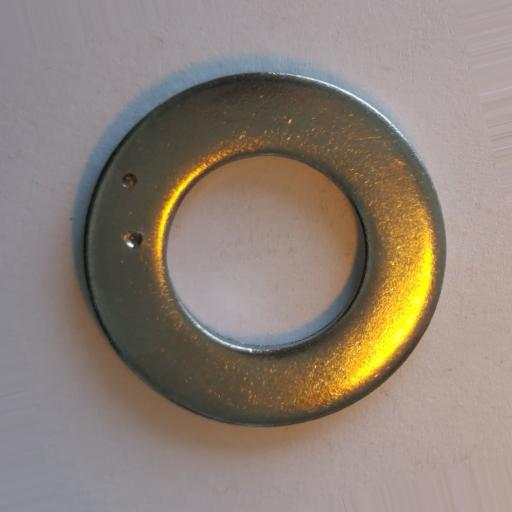circular_cavity: (123, 230, 143, 249), (121, 172, 137, 188)
